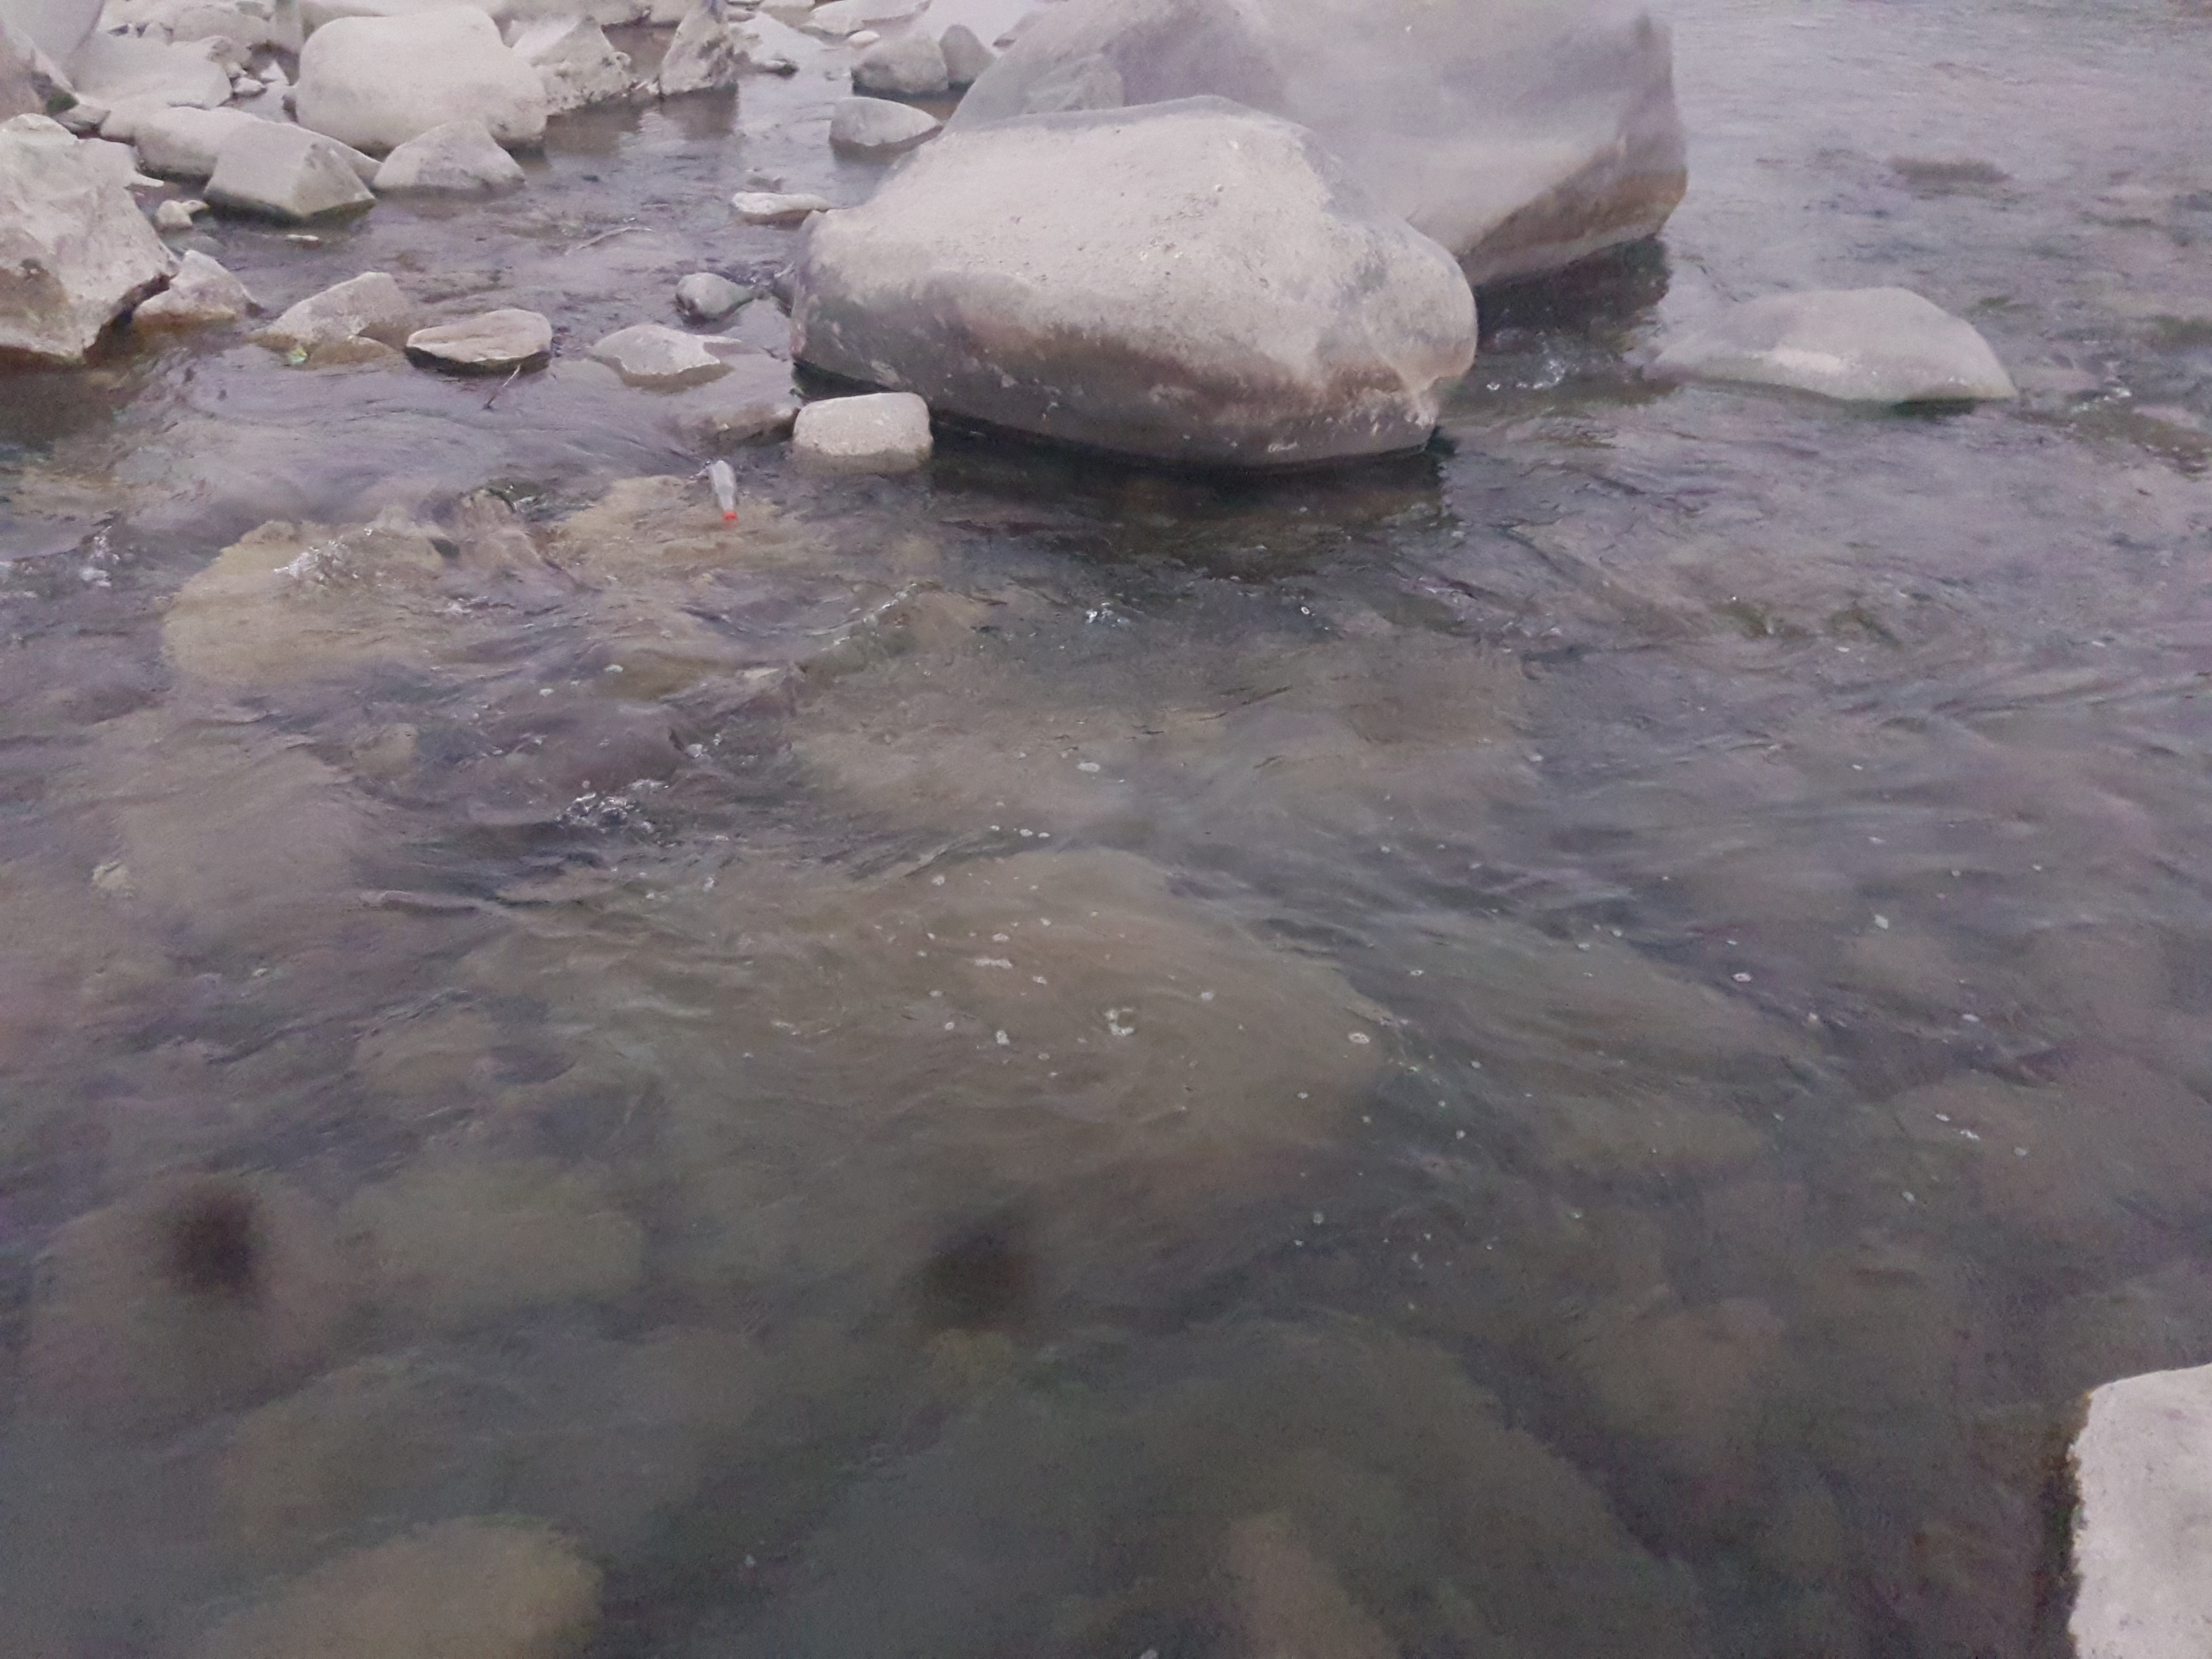Plastic Bottle: (709, 460, 738, 521)
